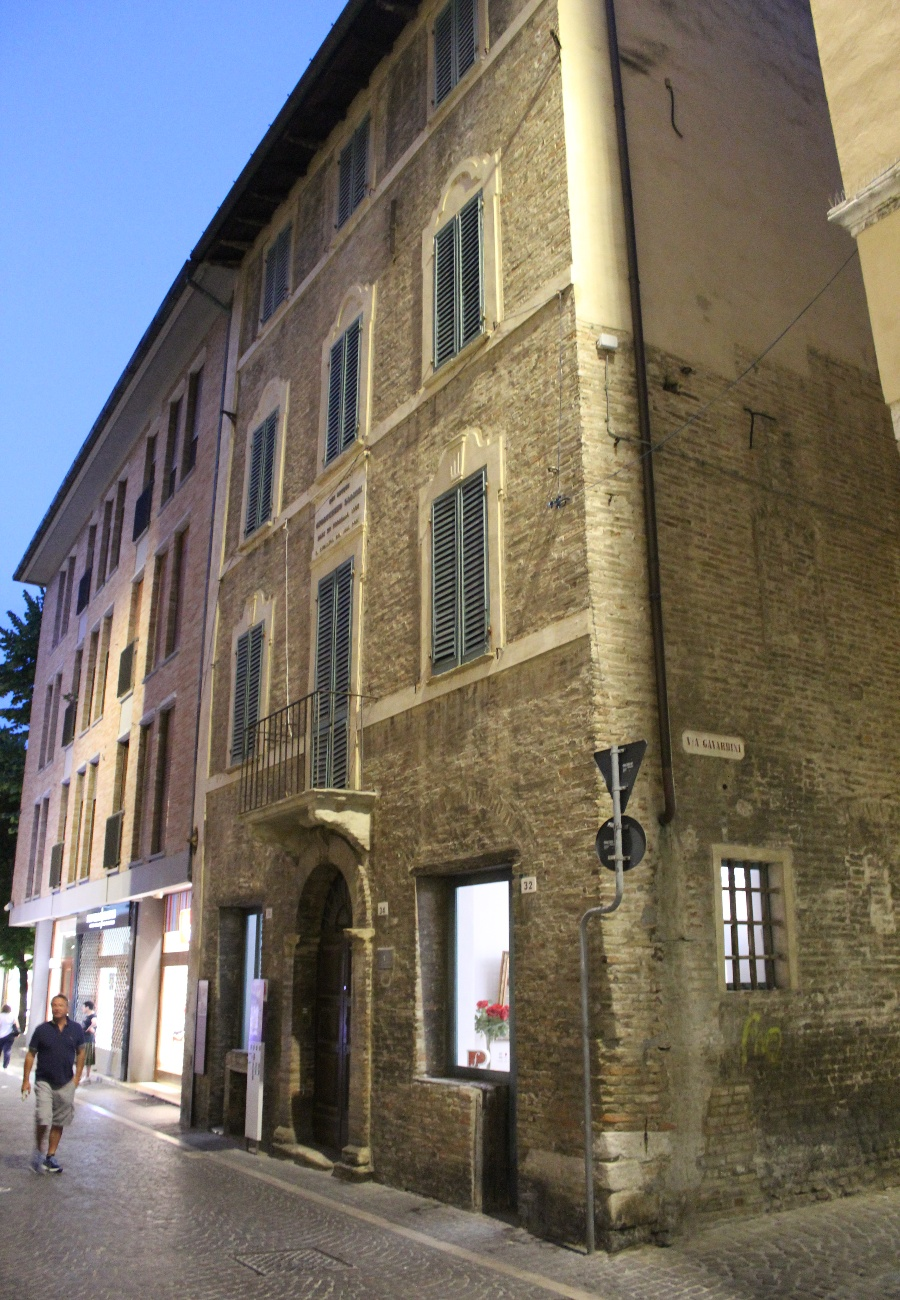Casa Rossini: (183, 14, 615, 1246)
